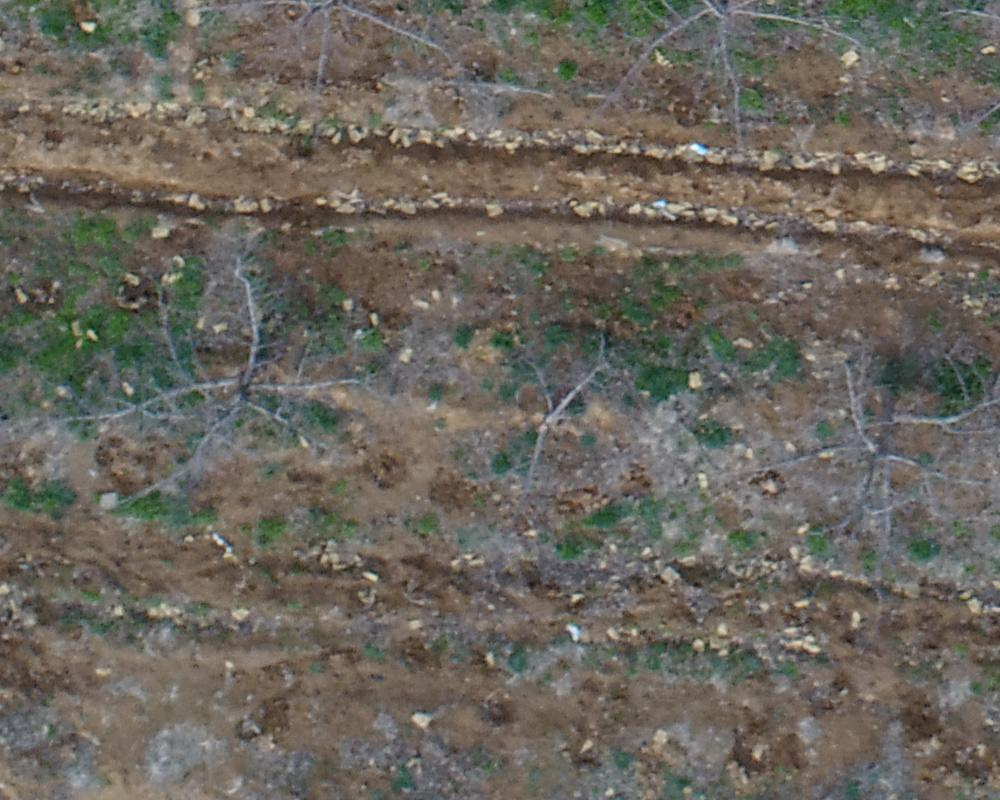apple: (48, 241, 373, 525), (740, 318, 990, 629), (569, 10, 910, 174), (456, 292, 679, 522), (179, 10, 479, 139)
